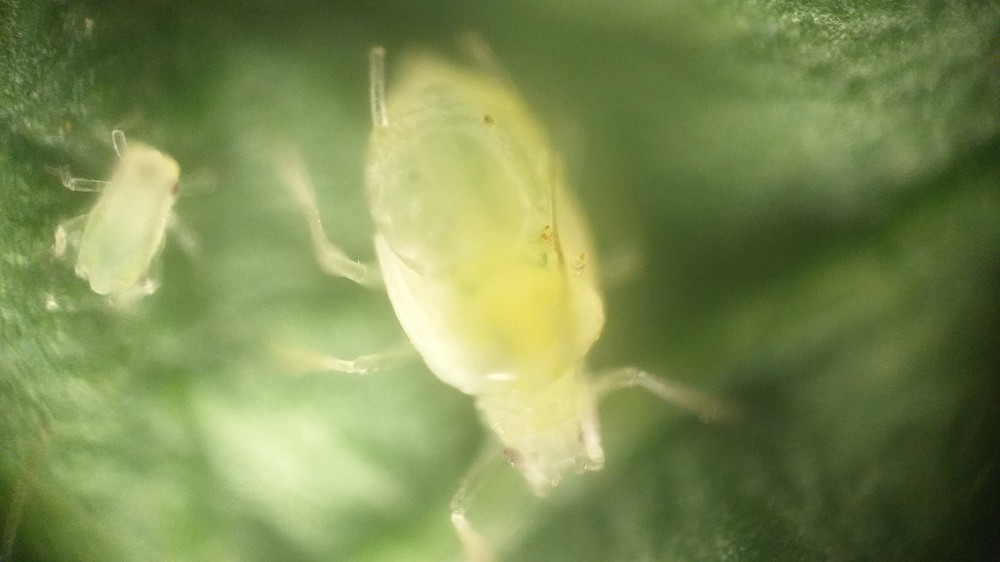Pulgon: (267, 27, 785, 550), (38, 116, 234, 339)
